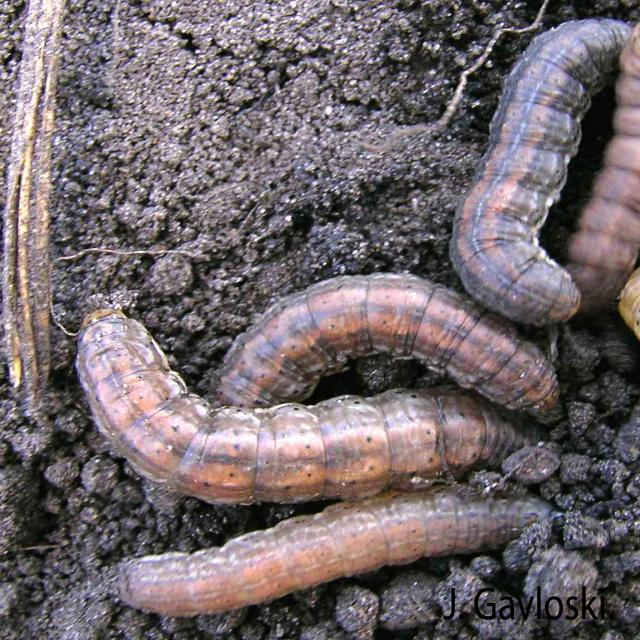Cutworm: (77, 300, 531, 510), (466, 8, 640, 346), (207, 277, 586, 428), (112, 525, 626, 619)
